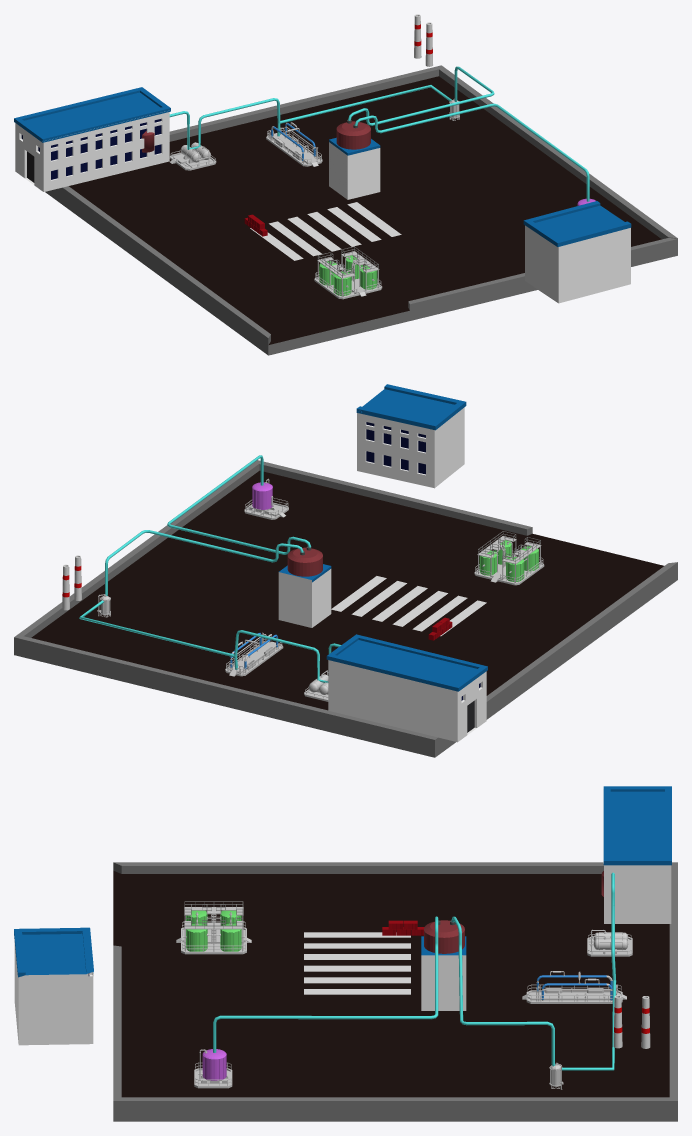
File: facility.glb
The picture shows the model from 3 angles, top to bottom: view 1: azimuth 30°, elevation 25°; view 2: azimuth 150°, elevation 25°; view 3: azimuth 270°, elevation 25°; orthographic projection. The views are drawn at different scales.
Parts seen in each view (by area): view 1: Cube.001, Building, Building.001, Roof1, Plane.001, Roof1.001, Cube, Fuel_tank_4__Cube.008, _Pipe__Cube.005, Fuel_tank_2__Cube.037, Cylinder.010; view 2: Cube.001, Building, Building.001, Roof1, Plane.001, Roof1.001, Cube, Fuel_tank_4__Cube.008, _Pipe__Cube.005, Fuel_tank_3__Cube.039, Cylinder.010; view 3: Cube.001, Building.001, Roof1, Building, Roof1.001, Plane.001, Fuel_tank_4__Cube.008, Cube, _Pipe__Cube.005, Fuel_tank_3__Cube.039, Fuel_tank_2__Cube.037, Cylinder.010.
Part boxes in pixels (x1,y1,x2,y2): Cube.001: (45, 65, 677, 355); Building: (15, 111, 169, 191); Building.001: (525, 225, 630, 303); Roof1: (14, 87, 170, 142); Plane.001: (169, 66, 589, 201); Roof1.001: (523, 201, 631, 246); Cube: (329, 137, 380, 199); Fuel_tank_4__Cube.008: (314, 246, 382, 299); _Pipe__Cube.005: (266, 122, 322, 166); Fuel_tank_2__Cube.037: (169, 142, 216, 170); Cylinder.010: (336, 121, 370, 149); Cube.001: (14, 460, 677, 757); Building: (328, 660, 486, 742); Building.001: (357, 407, 464, 488); Roof1: (326, 634, 487, 691); Plane.001: (79, 455, 341, 682); Roof1.001: (356, 384, 466, 430); Cube: (278, 564, 331, 627); Fuel_tank_4__Cube.008: (474, 531, 544, 585); _Pipe__Cube.005: (225, 632, 283, 676); Fuel_tank_3__Cube.039: (244, 478, 288, 519); Cylinder.010: (287, 547, 322, 576); Cube.001: (113, 862, 677, 1121); Building.001: (14, 943, 93, 1045); Roof1: (603, 786, 671, 865); Building: (603, 789, 671, 923); Roof1.001: (14, 927, 93, 977); Plane.001: (213, 872, 616, 1070); Fuel_tank_4__Cube.008: (176, 901, 251, 954); Cube: (421, 936, 466, 1010); _Pipe__Cube.005: (522, 971, 626, 1003); Fuel_tank_3__Cube.039: (194, 1049, 232, 1088); Fuel_tank_2__Cube.037: (587, 929, 632, 956); Cylinder.010: (424, 920, 464, 953).
Size of the model in its own units: 34.78 by 6.68 by 38.96.
